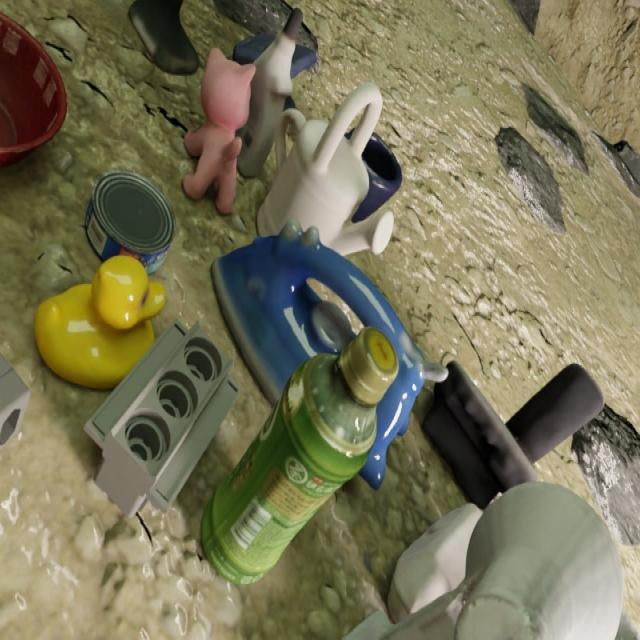Other Objects: (200, 328, 398, 584), (84, 324, 238, 515), (34, 255, 165, 387), (182, 48, 254, 213), (0, 12, 67, 165), (85, 171, 175, 273), (128, 0, 199, 75), (352, 133, 401, 221)
